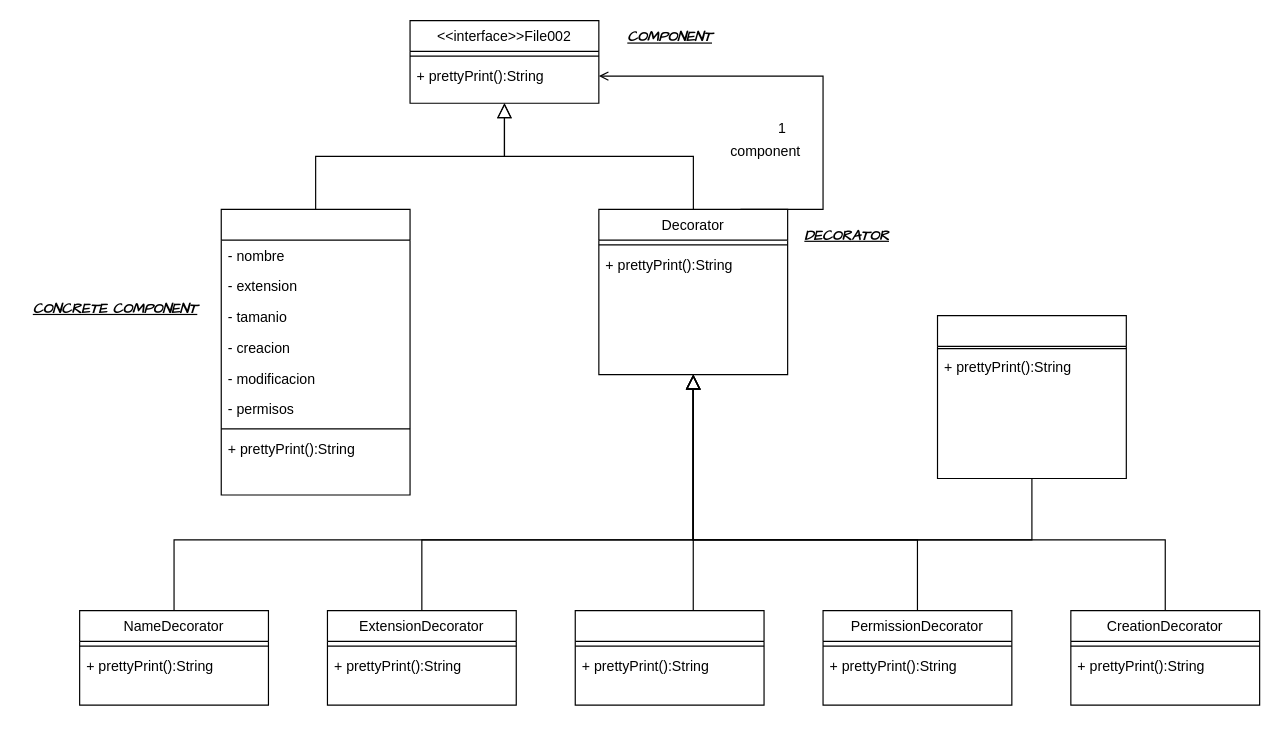
Some shapes in this 1280 by 729 pixel diagram are drawn without their labels. The box of each missing label's shape, as (x1, y1, x2, y2) in pixels:
File: (220, 208, 410, 495)
ModifyDecoratror: (936, 314, 1126, 478)
SizeDecorator: (574, 609, 764, 705)
